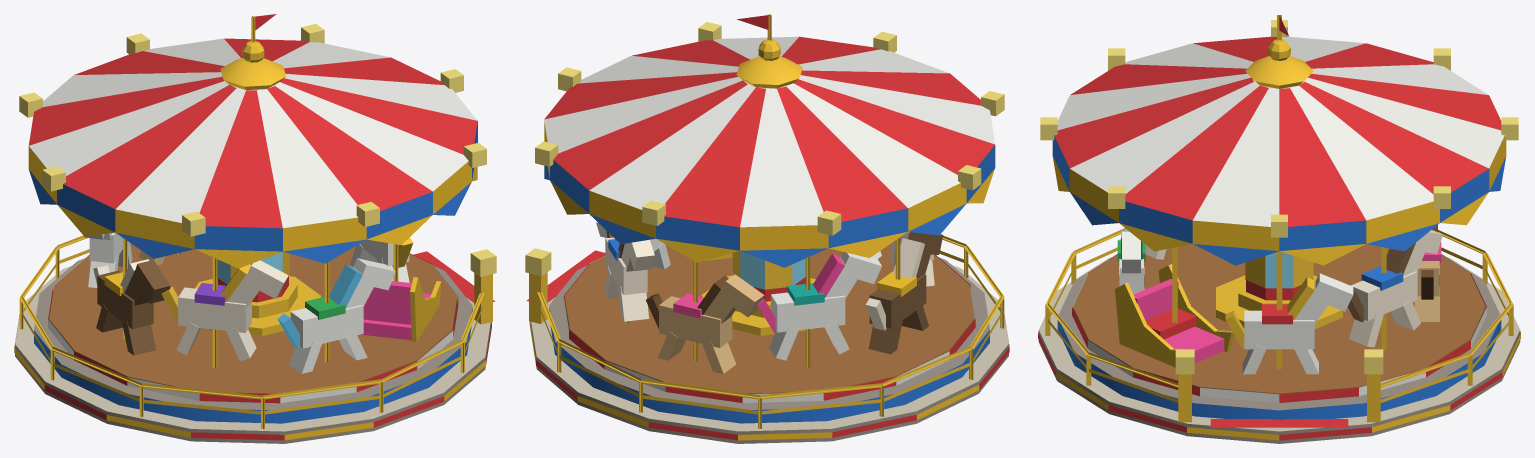
Rendered from carousel.glb.
3 renders of one model, left to right at view 1: azimuth 30°, elevation 25°; view 2: azimuth 150°, elevation 25°; view 3: azimuth 270°, elevation 25°, orthographic.
Parts seen in each view (by area): view 1: Top, Body; view 2: Top, Body; view 3: Top, Body.
Part boxes in pixels (x1,y1,x2,y2): Top: (19, 14, 486, 403); Body: (14, 235, 496, 443); Top: (535, 14, 1004, 402); Body: (525, 235, 1009, 443); Top: (1040, 15, 1518, 402); Body: (1038, 228, 1520, 443).
Bounding box in the file's own units: 1.4 × 1.05 × 1.4.
